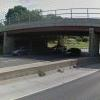Bridge: (4, 3, 96, 56)
